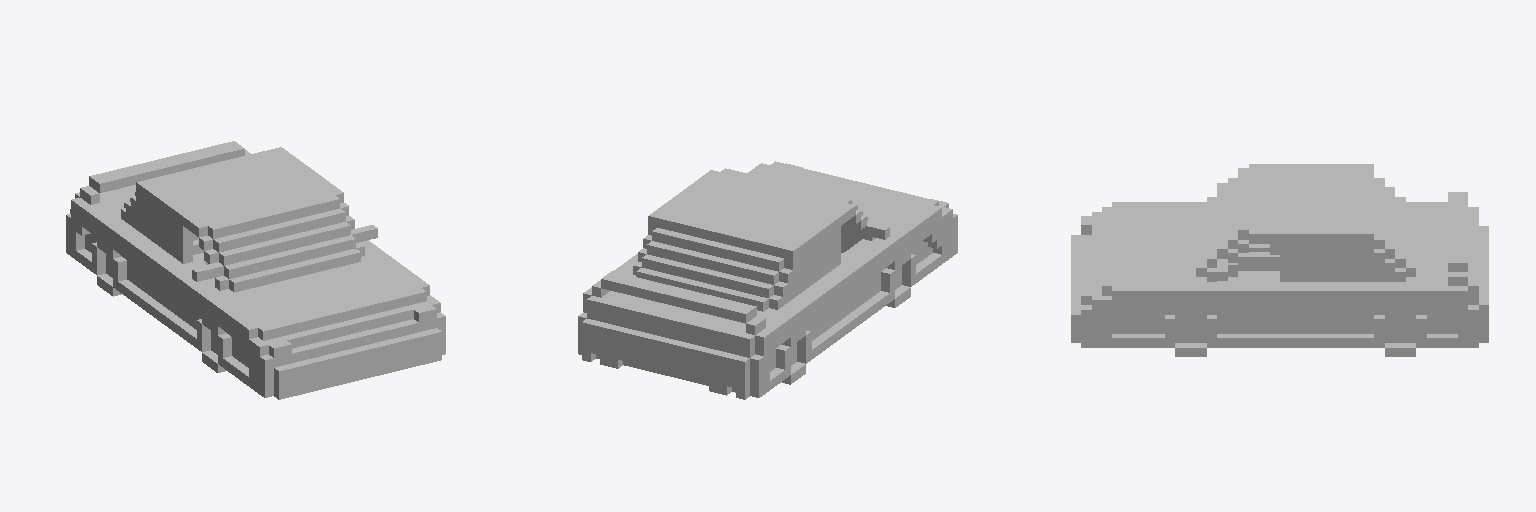
Rendered from Car1.obj.
3 views of the same model, side by side, from view 1: azimuth 30°, elevation 25°; view 2: azimuth 150°, elevation 25°; view 3: azimuth 270°, elevation 25° (orthographic).
Visible parts, largest first — view 1: object 1; view 2: object 1; view 3: object 1.
Part boxes in pixels (x1,y1,x2,y2): object 1: (66,141,445,399); object 1: (578,161,957,399); object 1: (1071,164,1488,356).
Size of the model in its own units: 2 by 1.2 by 4.